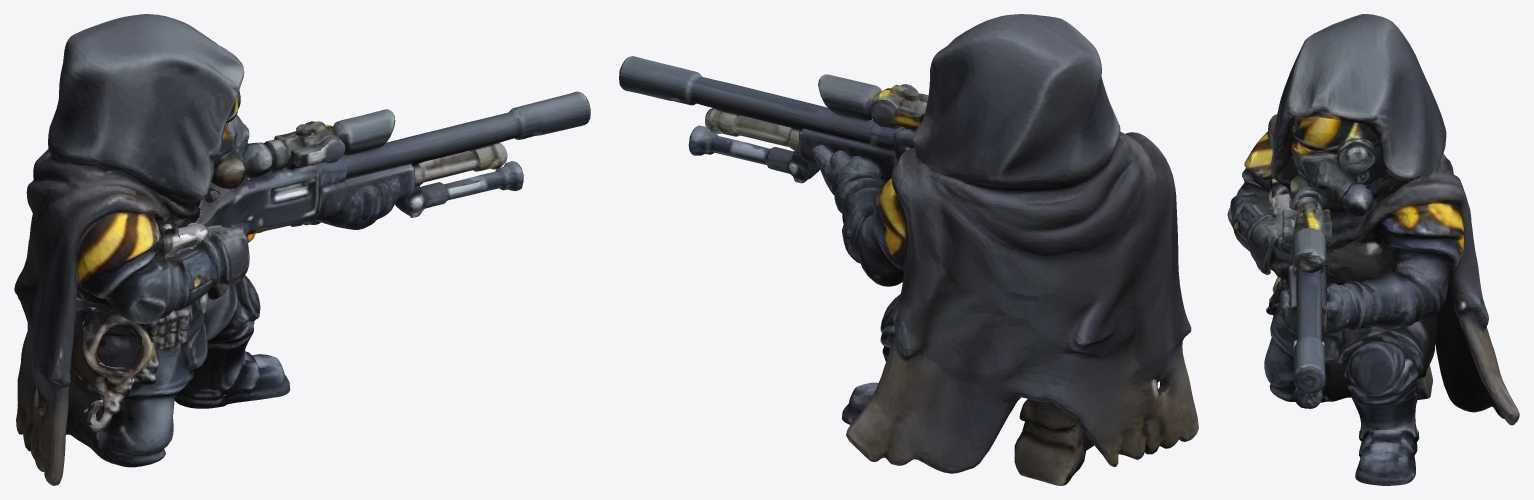
Rendered from marksman.glb.
3 renders of one model, left to right at view 1: azimuth 30°, elevation 25°; view 2: azimuth 150°, elevation 25°; view 3: azimuth 270°, elevation 25°, orthographic. The views are drawn at different scales.
Visible parts, largest first — view 1: figure; view 2: figure; view 3: figure.
Boxes of the visible parts, x1,y1,x2,y2 form: figure: (14,14,590,485); figure: (619,14,1198,485); figure: (1227,14,1519,485).
Bounding box in the file's own units: 1.96 × 1.4 × 0.9637.
Materials: 1 (1 with a texture image).
